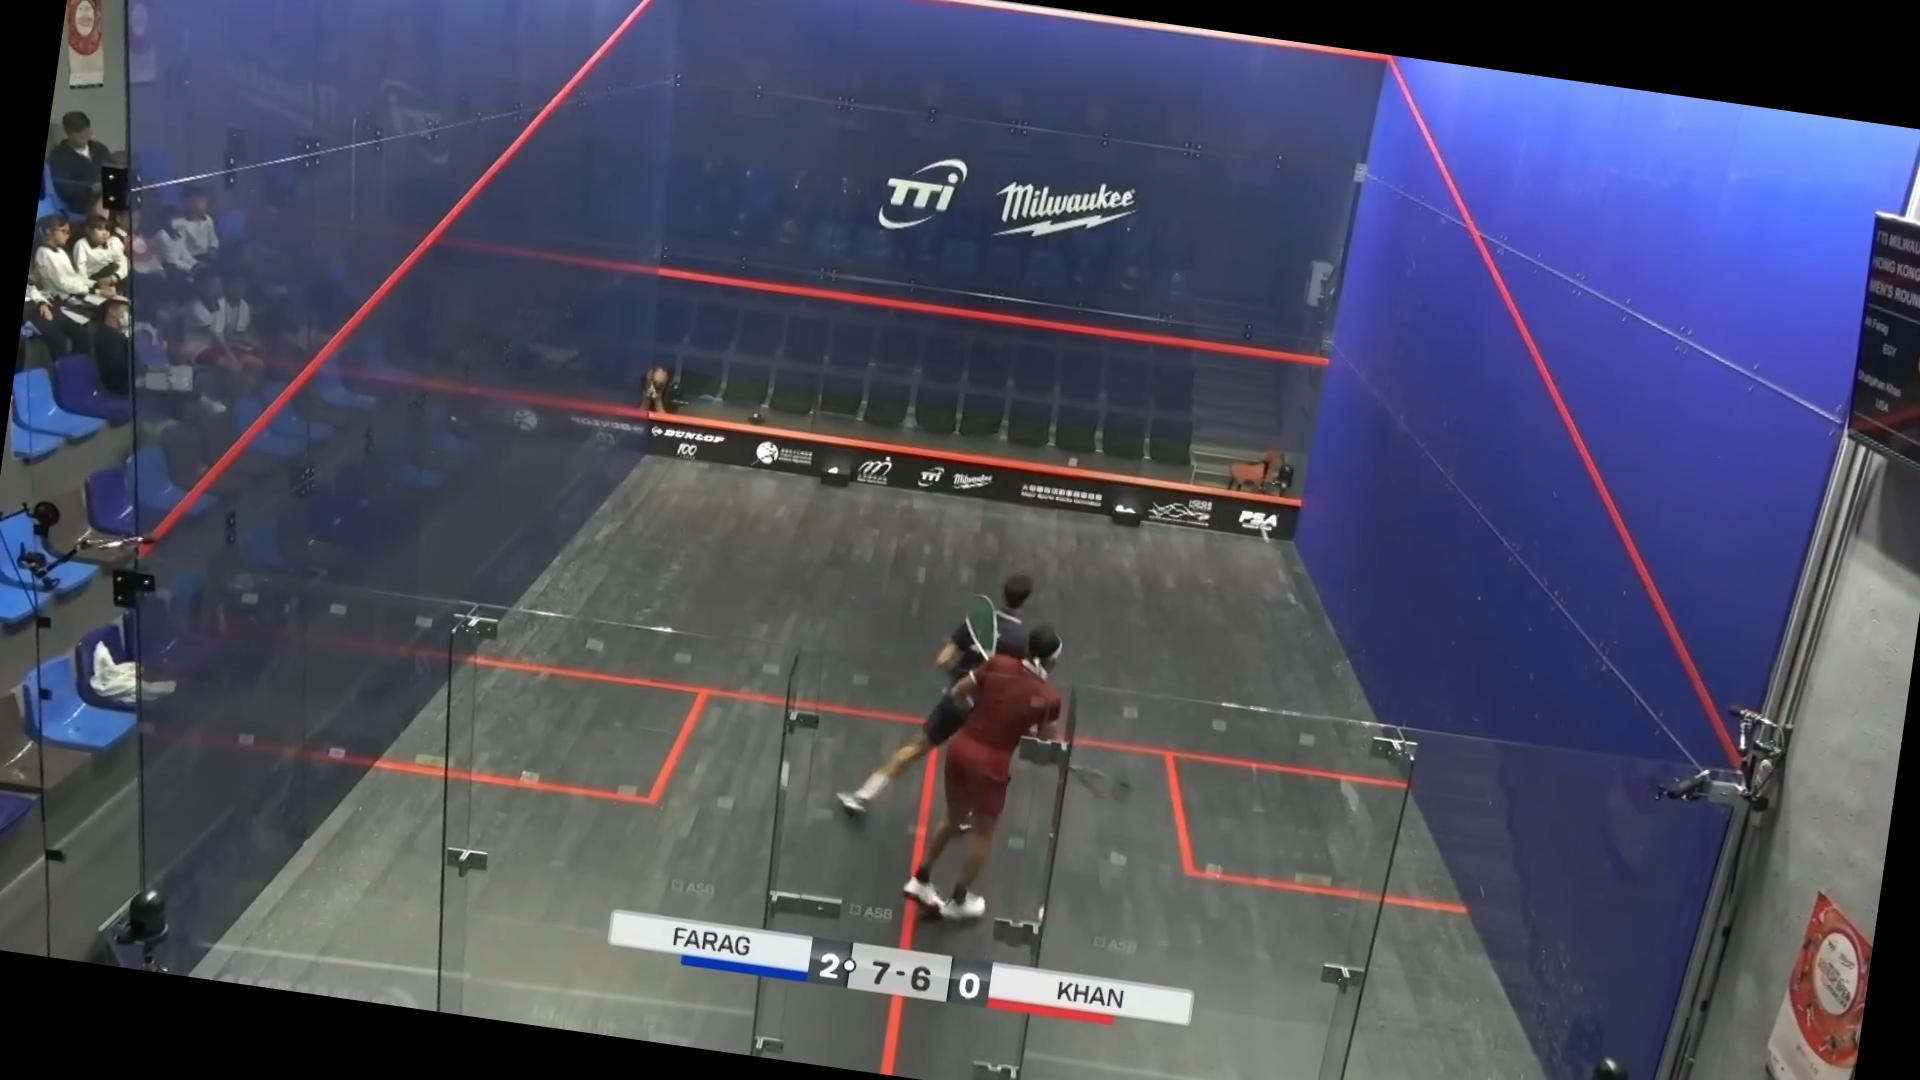Racket: (953, 585, 1005, 670)
